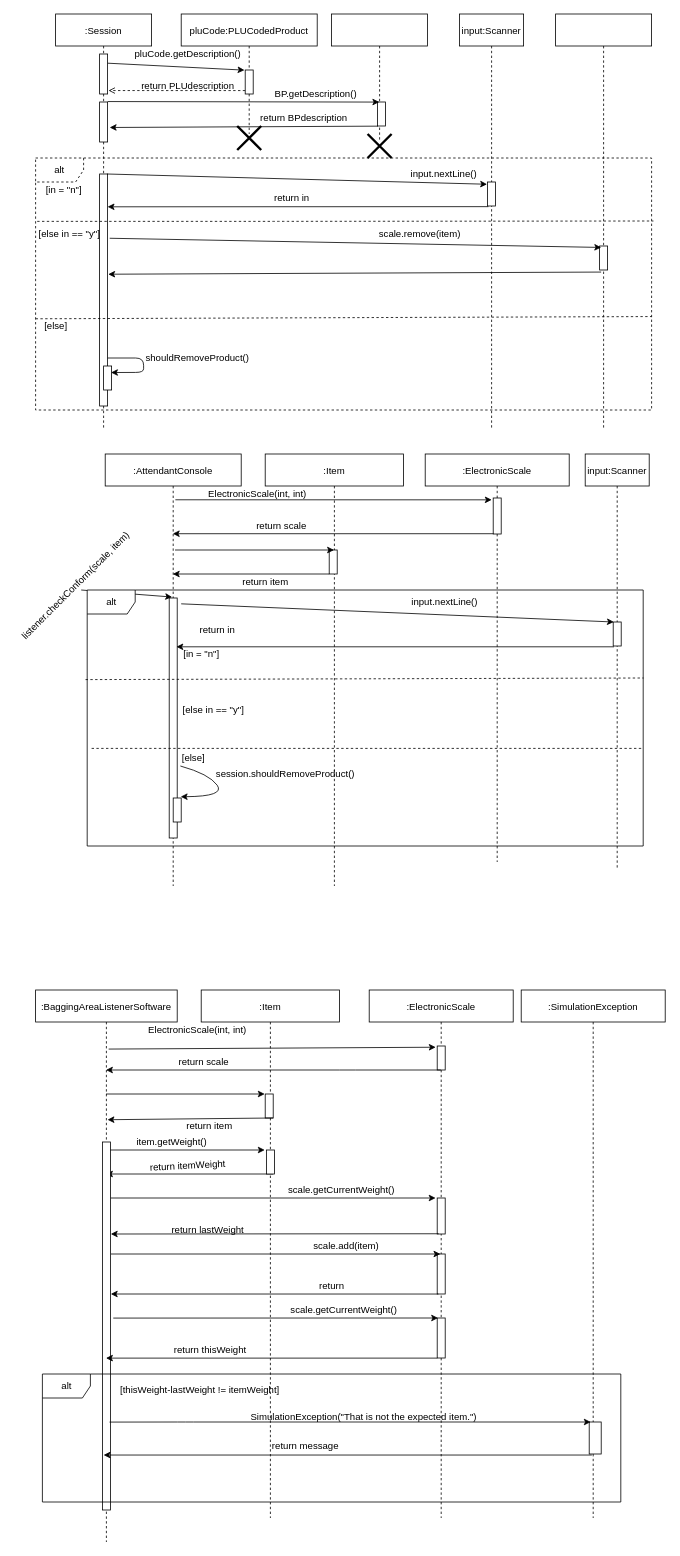
Some shapes in this 680 by 1556 pixel diagram are drawn without their labels. The shapes that lost their labels are listed below. From the top down, each one's centre as x and y in pixels, then its label:
At (x=379, y=77): "BP:BarcodedProduct".
At (x=603, y=221): "scale:ElectronicScale".
